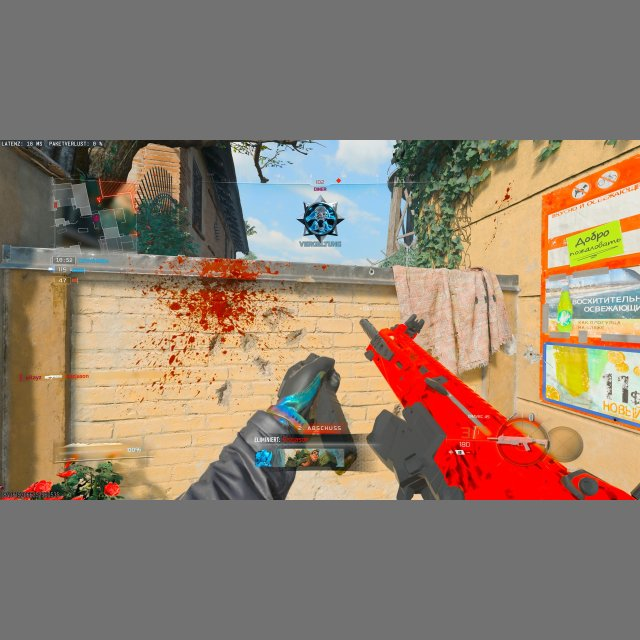player: (300, 199, 343, 243)
